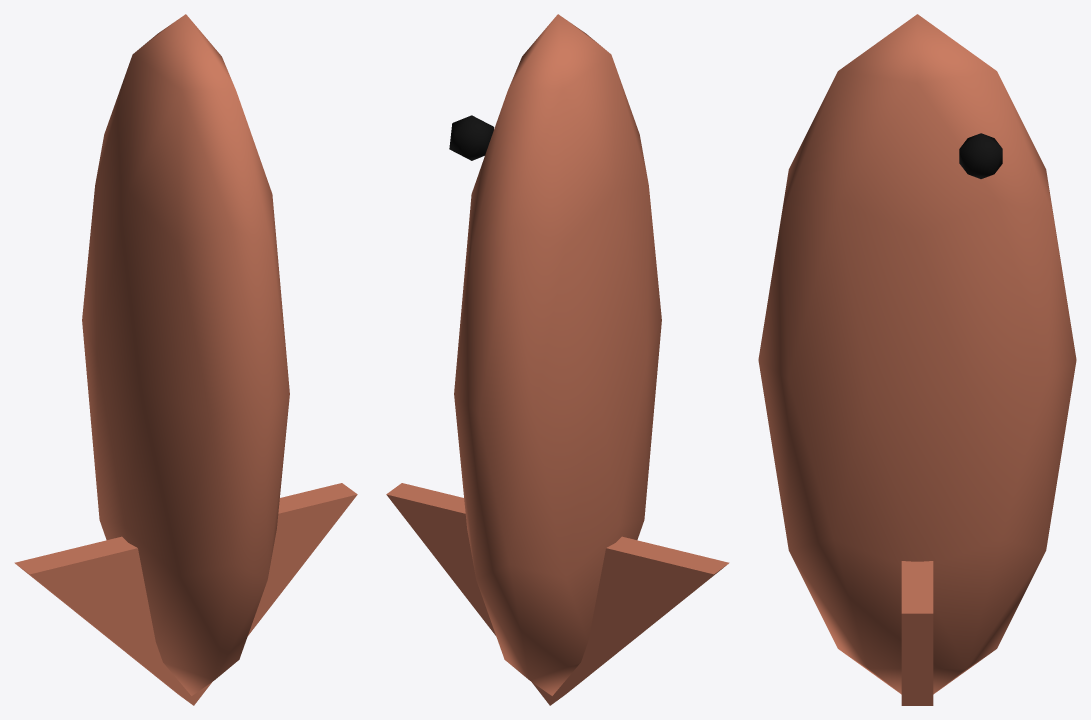
File: salmon.glb
3 views of the same model, side by side, from view 1: azimuth 30°, elevation 25°; view 2: azimuth 150°, elevation 25°; view 3: azimuth 270°, elevation 25° (orthographic).
Visible parts, largest first — view 1: salmon_v0; view 2: salmon_v0; view 3: salmon_v0.
Boxes of the visible parts, x1,y1,x2,y2 form: salmon_v0: (14, 14, 357, 705); salmon_v0: (386, 14, 729, 705); salmon_v0: (758, 14, 1076, 705).
Size of the model in its own units: 0.12 by 0.24 by 0.1.
